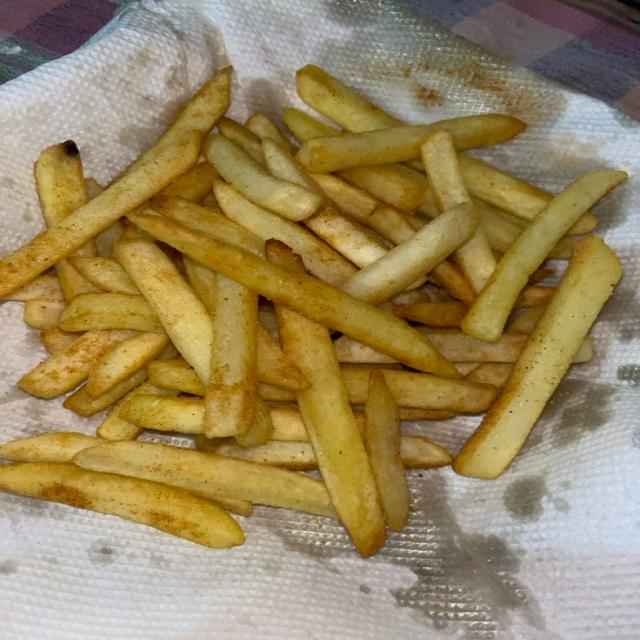potato fries: (0, 66, 625, 555), (132, 214, 459, 377), (454, 237, 621, 477), (0, 132, 200, 296), (461, 171, 626, 341), (276, 306, 386, 555), (0, 463, 243, 548), (74, 442, 334, 516), (215, 183, 356, 284), (114, 241, 213, 382), (342, 203, 477, 305), (297, 114, 524, 172), (120, 67, 232, 178), (207, 134, 323, 220), (205, 275, 258, 437), (18, 331, 130, 397), (365, 370, 409, 531), (297, 65, 401, 130), (151, 197, 263, 255), (459, 154, 553, 221), (86, 333, 169, 396), (97, 381, 178, 440), (386, 370, 496, 412), (34, 141, 87, 227), (421, 130, 472, 214), (58, 293, 164, 332), (339, 166, 425, 210), (312, 174, 379, 223), (218, 440, 318, 471), (0, 432, 100, 462), (67, 256, 139, 294), (160, 162, 219, 202), (217, 118, 264, 165), (246, 113, 296, 152), (394, 302, 467, 327), (3, 275, 64, 301), (24, 299, 64, 330)
